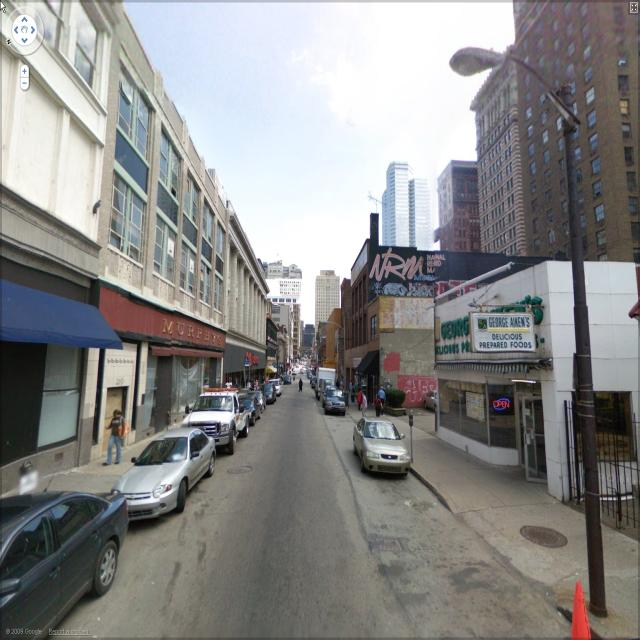b_1: (0, 6, 109, 306), (517, 5, 640, 264), (115, 33, 217, 315), (472, 46, 524, 262), (226, 223, 272, 379), (376, 161, 432, 245), (431, 163, 481, 253), (311, 276, 347, 340)
